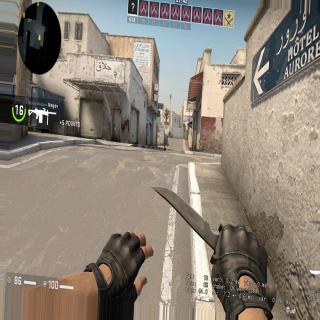CT-Body: (168, 131, 170, 139)
CT-Head: (170, 131, 170, 132)
